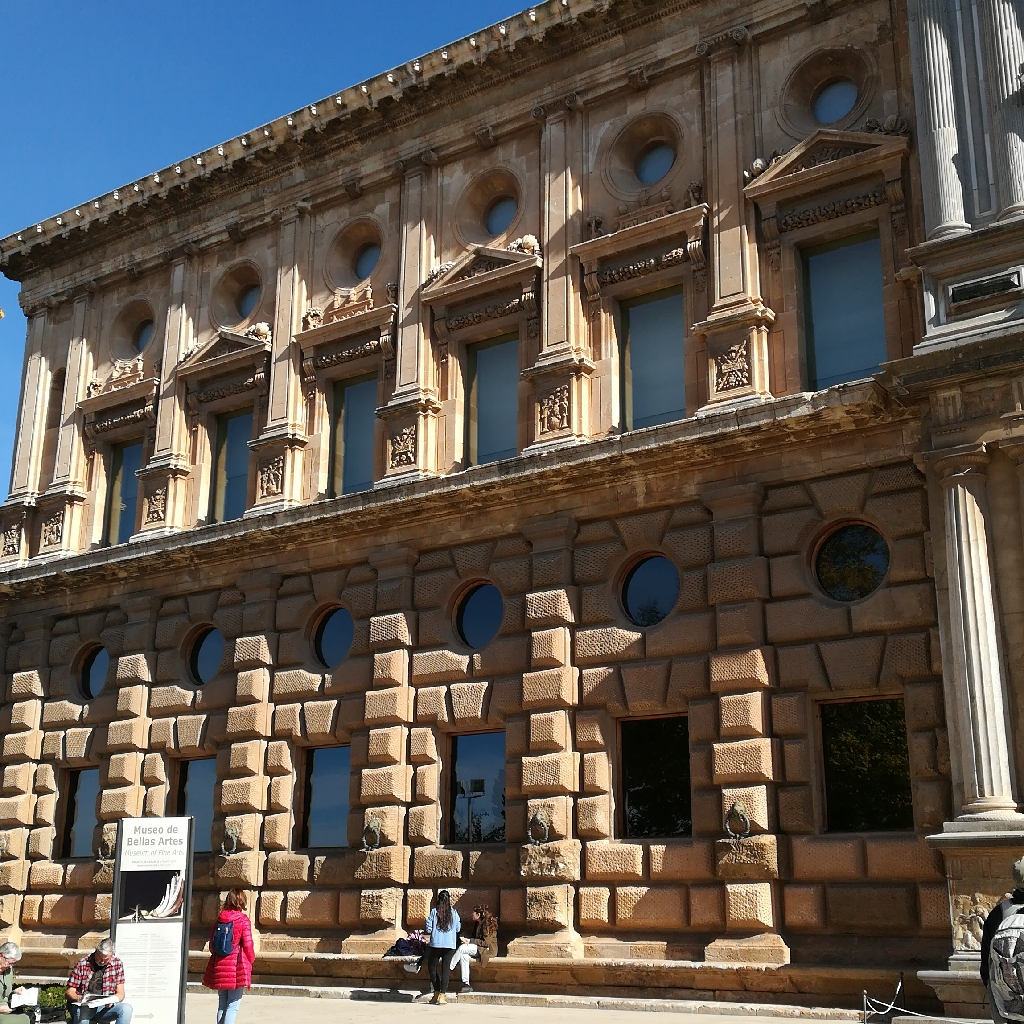fronton: (745, 123, 911, 202), (424, 237, 542, 304), (177, 323, 273, 378)
ojo-de-buey: (779, 40, 875, 137), (806, 507, 896, 604), (602, 101, 684, 197), (451, 161, 527, 244), (614, 545, 685, 629), (323, 209, 385, 291), (444, 578, 508, 648), (209, 253, 264, 328), (109, 290, 162, 362), (309, 596, 360, 668), (180, 615, 228, 685), (68, 639, 111, 698)
vano-adintelado: (779, 192, 898, 395), (599, 253, 699, 434), (447, 305, 530, 475), (312, 345, 390, 503), (187, 384, 262, 528), (89, 420, 154, 553)
